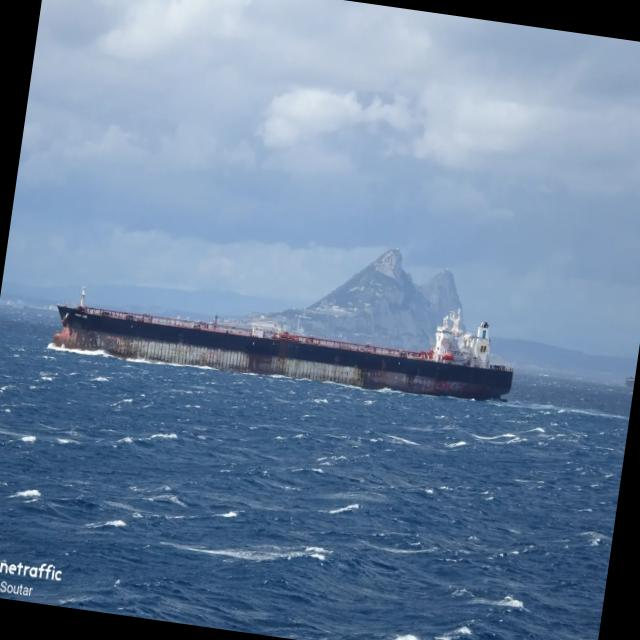Tanker: (53, 304, 512, 399)
